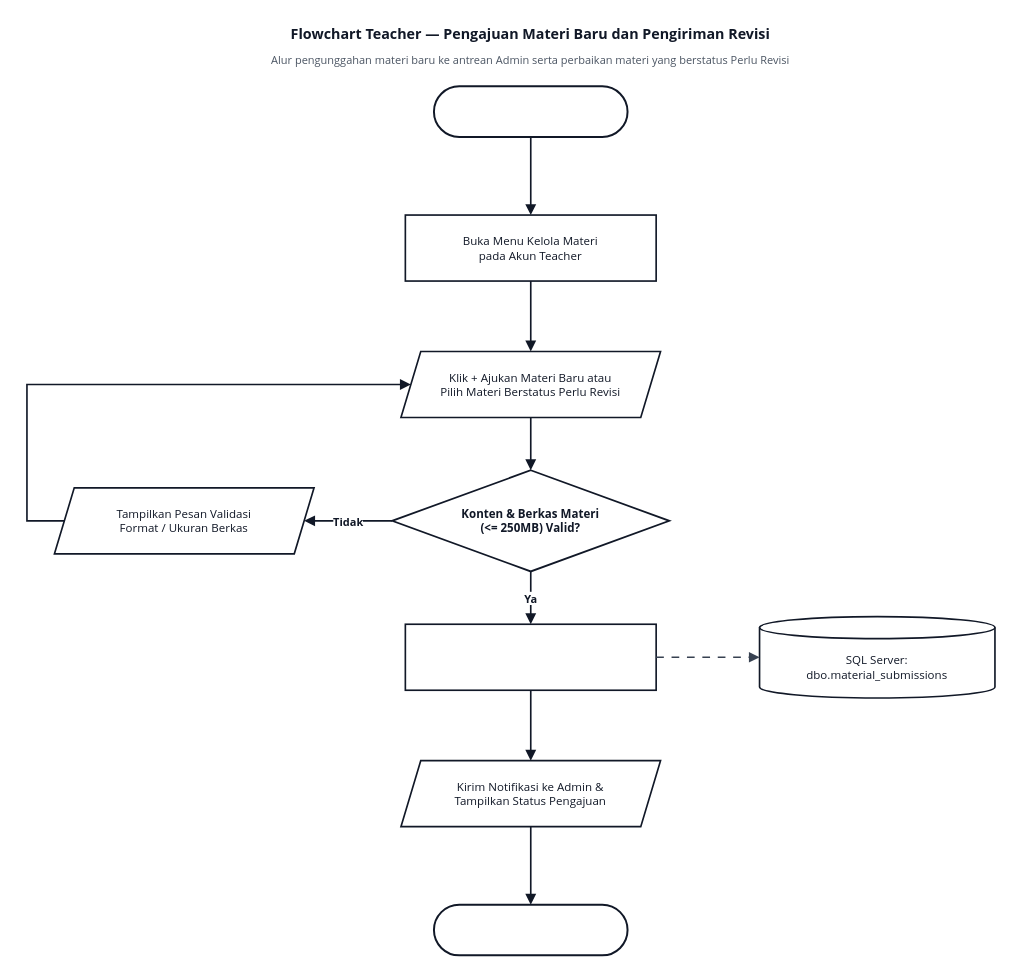
This 1015x975 diagram has some shape labels left out. Here are the shapes that lost their labels. From the top down, the centre of each, then its label:
At point (530, 111): "Mulai".
At point (530, 657): "Simpan Pengajuan / Revisi Materi (Status: Menunggu Admin)".
At point (530, 929): "Selesai".
